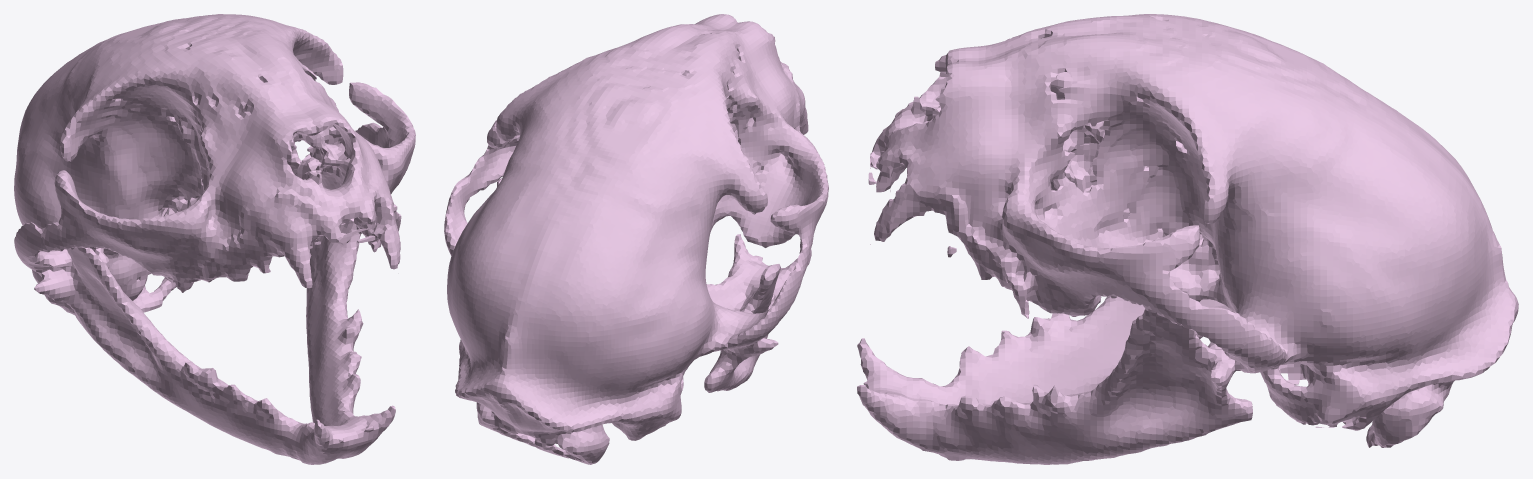
The model's file is craneo_gato.glb.
The picture shows the model from 3 angles, left to right: view 1: azimuth 30°, elevation 25°; view 2: azimuth 150°, elevation 25°; view 3: azimuth 270°, elevation 25°; orthographic projection. The views are drawn at different scales.
Visible parts, largest first — view 1: TEJIDO BLANDO paladar abierto.001; view 2: TEJIDO BLANDO paladar abierto.001; view 3: TEJIDO BLANDO paladar abierto.001.
Part boxes in pixels (x1,y1,x2,y2): TEJIDO BLANDO paladar abierto.001: [14, 14, 415, 464]; TEJIDO BLANDO paladar abierto.001: [444, 14, 828, 464]; TEJIDO BLANDO paladar abierto.001: [857, 14, 1518, 464].
Bounding box in the file's own units: 0.0713 × 0.0708 × 0.1008.
